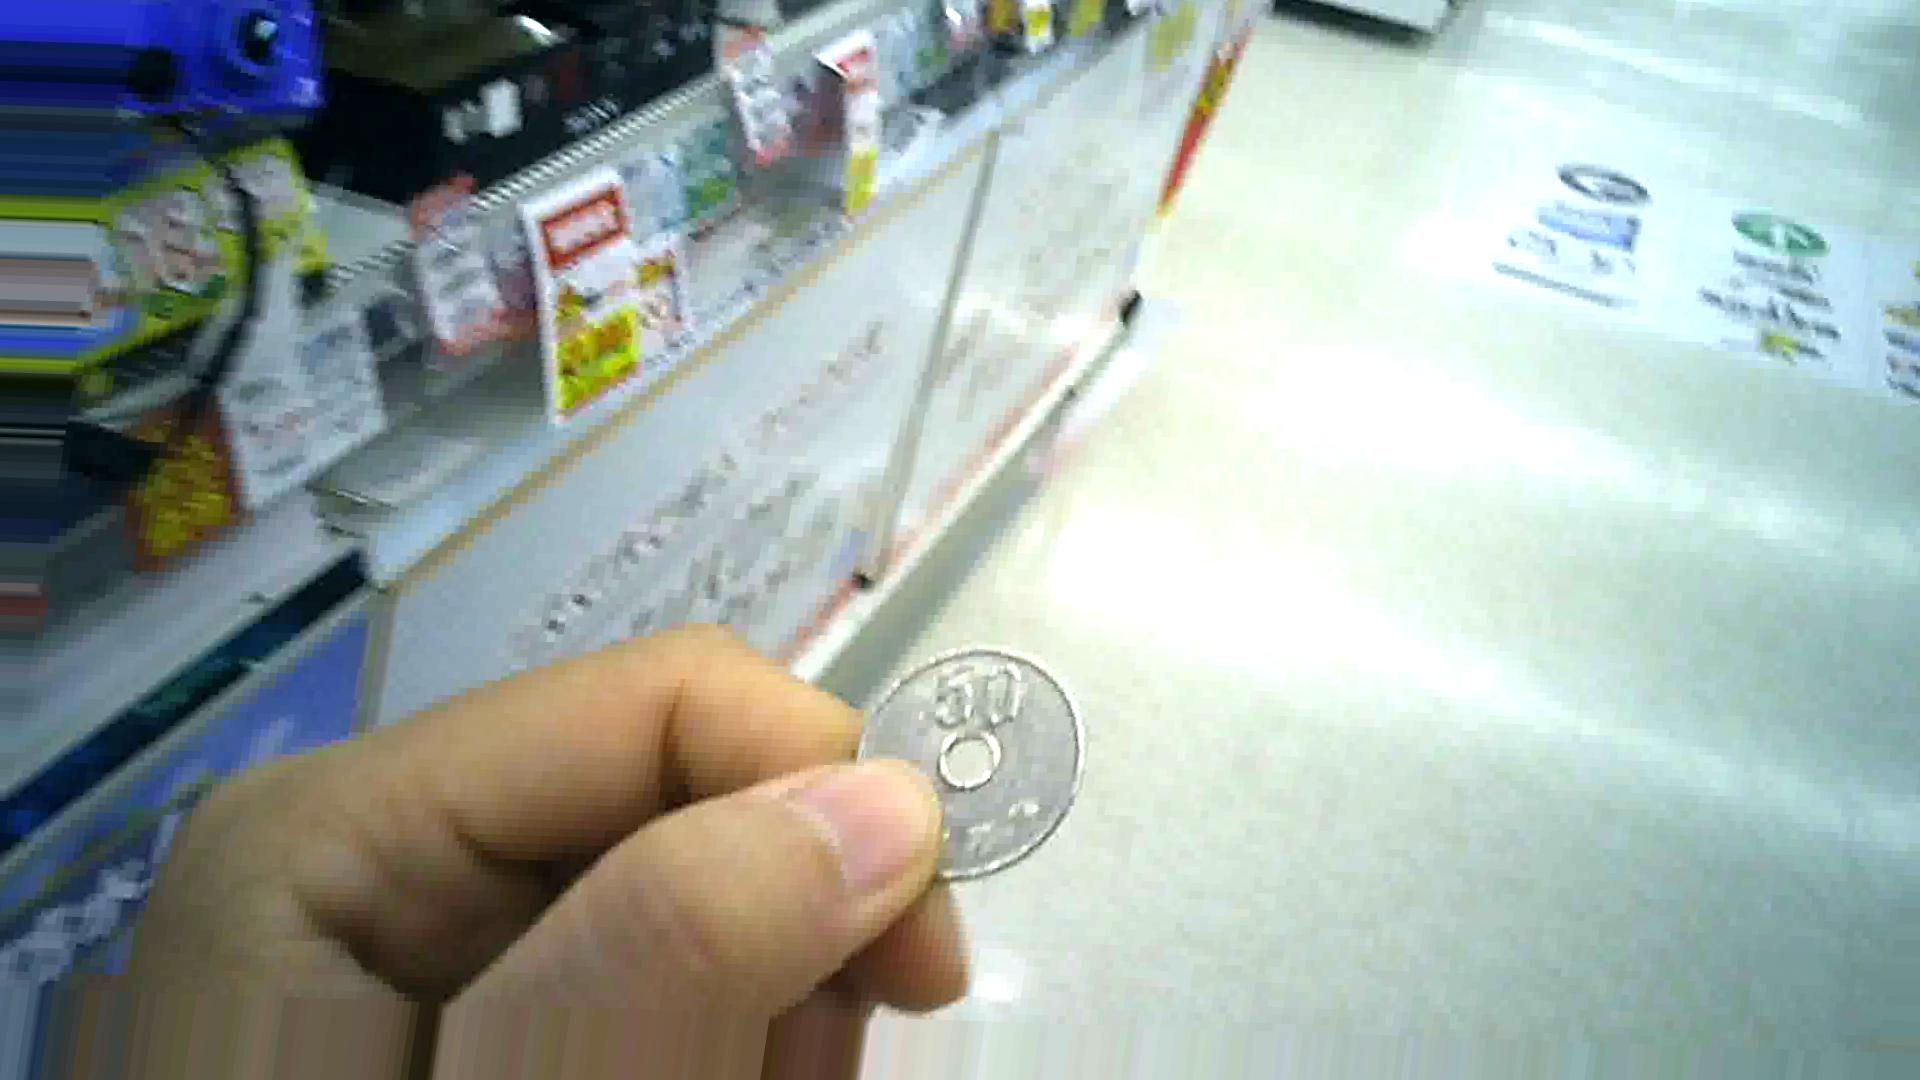50 Yen: (851, 644, 1088, 882)
